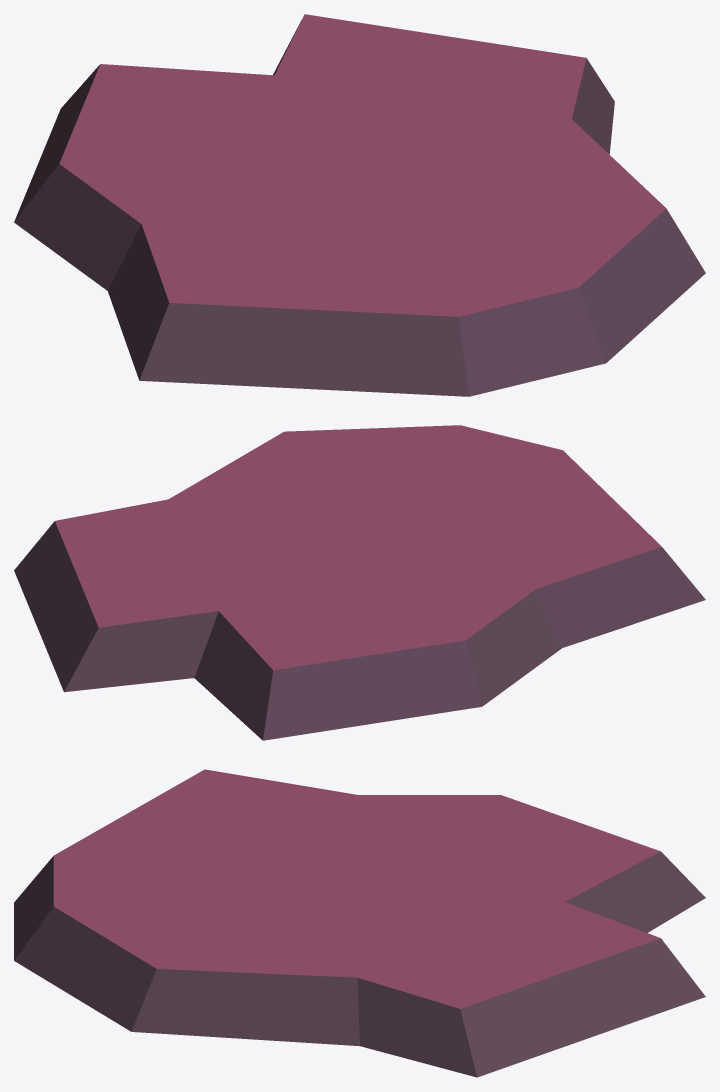
The model's file is Rock014.fbx.
3 renders of one model, top to bottom at view 1: azimuth 30°, elevation 25°; view 2: azimuth 150°, elevation 25°; view 3: azimuth 270°, elevation 25°, orthographic. The views are drawn at different scales.
Parts seen in each view (by area): view 1: Rock014; view 2: Rock014; view 3: Rock014.
Part boxes in pixels (bbox=[...]): Rock014: bbox=[14, 14, 705, 396]; Rock014: bbox=[14, 425, 705, 740]; Rock014: bbox=[14, 769, 705, 1077].
Size of the model in its own units: 125 by 11.23 by 134.
